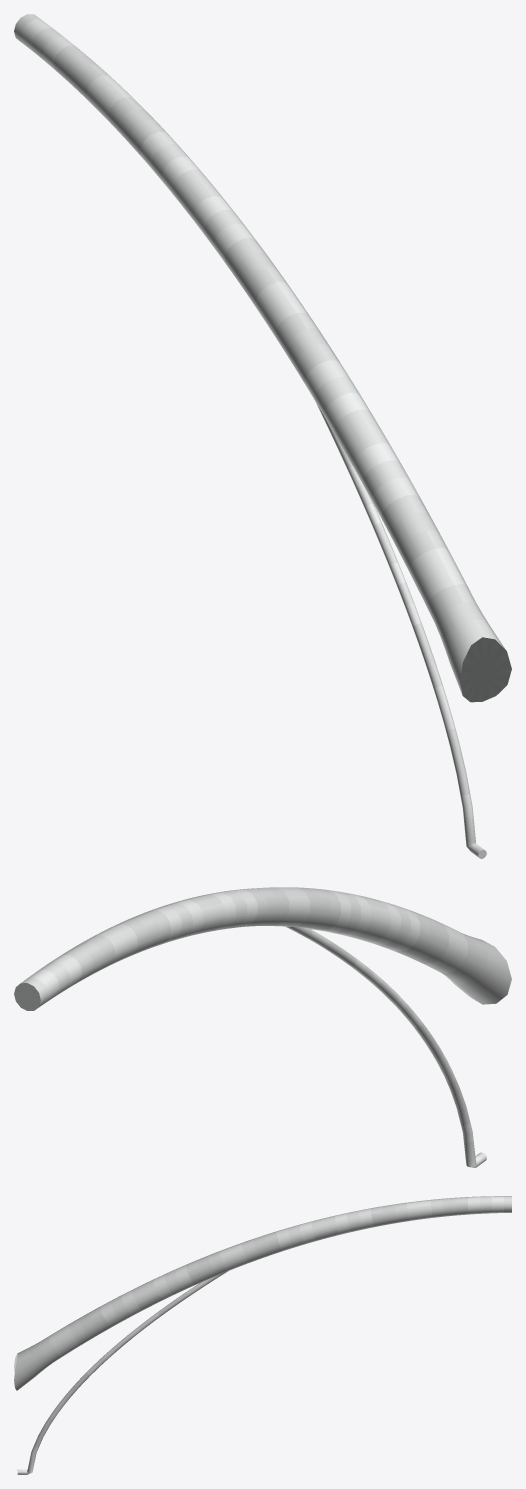
File: luminairearm_laupsweep12ft_inv.obj
The picture shows the model from 3 angles, top to bottom: view 1: azimuth 30°, elevation 25°; view 2: azimuth 150°, elevation 25°; view 3: azimuth 270°, elevation 25°; orthographic projection. The views are drawn at different scales.
Parts seen in each view (by area): view 1: luminairearm_laupsweep12ft_inv; view 2: luminairearm_laupsweep12ft_inv; view 3: luminairearm_laupsweep12ft_inv.
Part boxes in pixels (<box>): luminairearm_laupsweep12ft_inv: <box>14,14,511,858</box>; luminairearm_laupsweep12ft_inv: <box>14,887,511,1167</box>; luminairearm_laupsweep12ft_inv: <box>14,1196,511,1474</box>.
Bounding box in the file's own units: 0.0654 × 0.6156 × 1.
